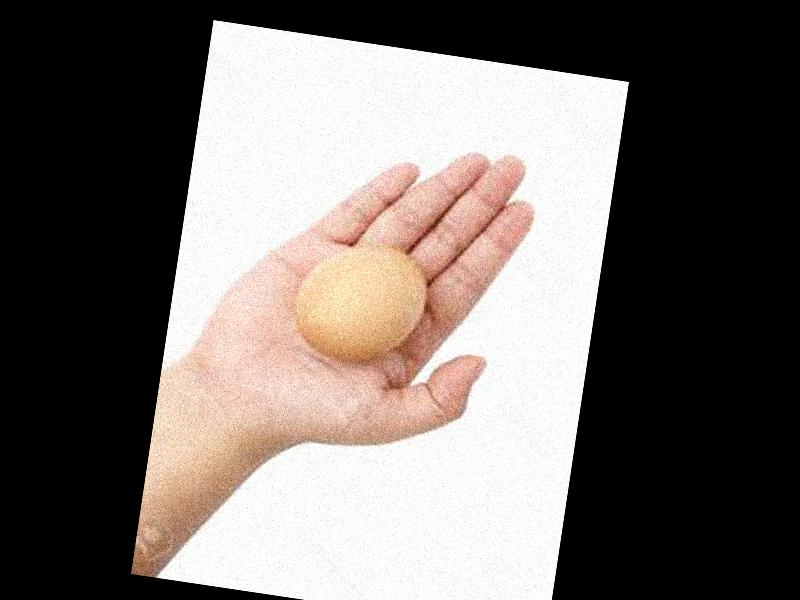Eggs: (288, 238, 430, 371)
